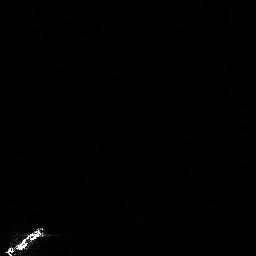ship: (6, 226, 46, 256)
